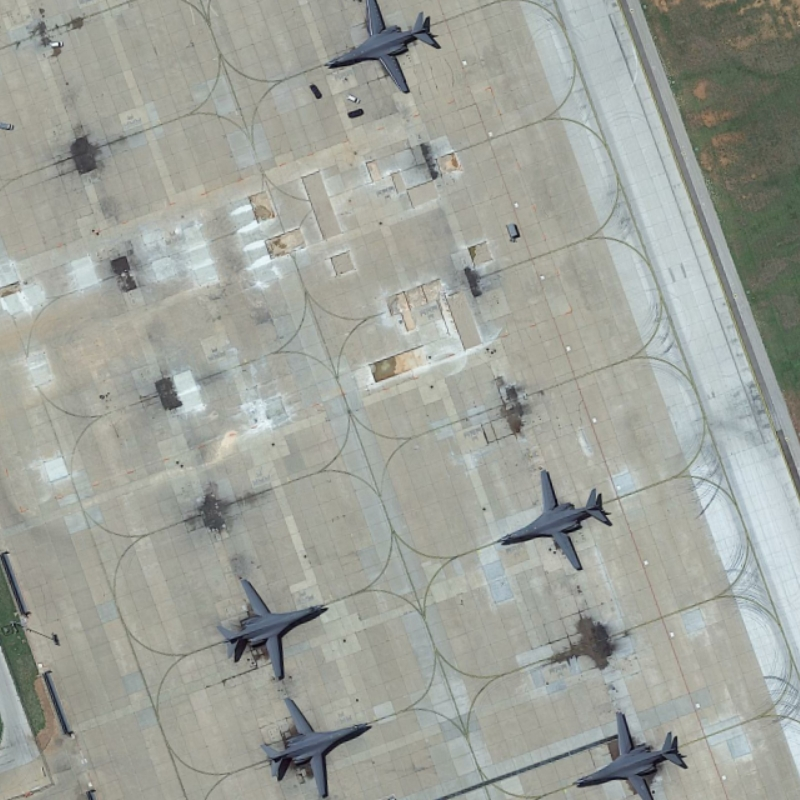A10: (487, 462, 624, 580), (251, 694, 381, 800), (213, 572, 326, 687), (321, 3, 449, 102), (569, 702, 697, 800)
